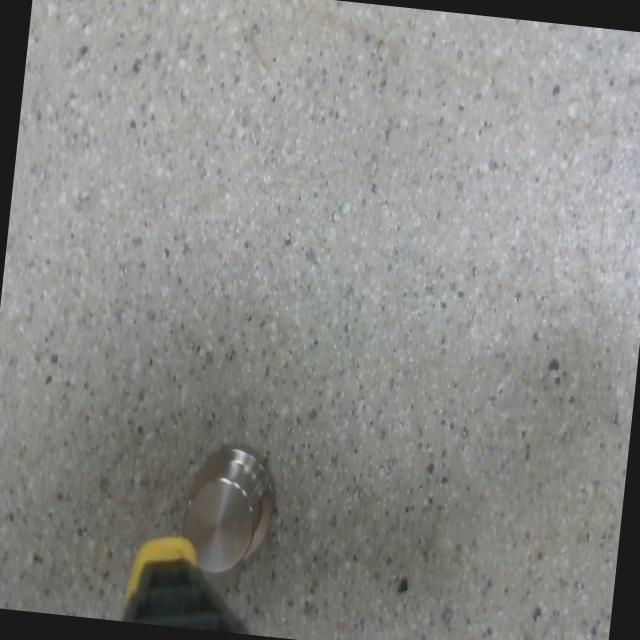sensor: (175, 438, 281, 579)
